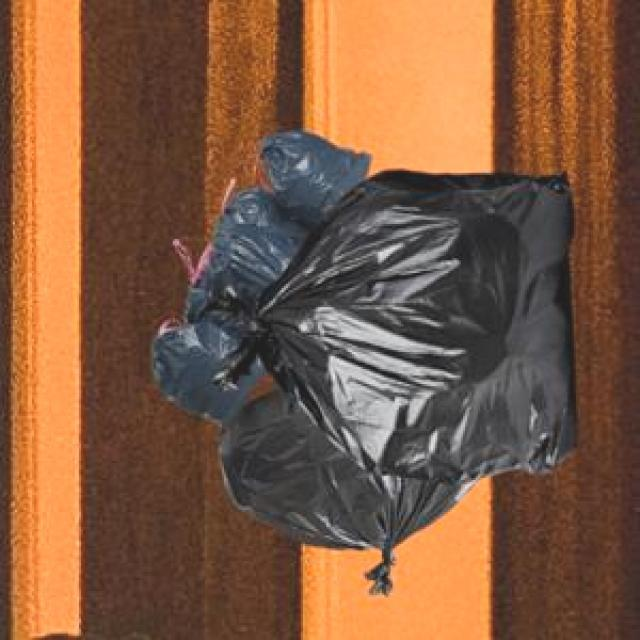Trashbag: (258, 158, 591, 494), (146, 318, 249, 425)
